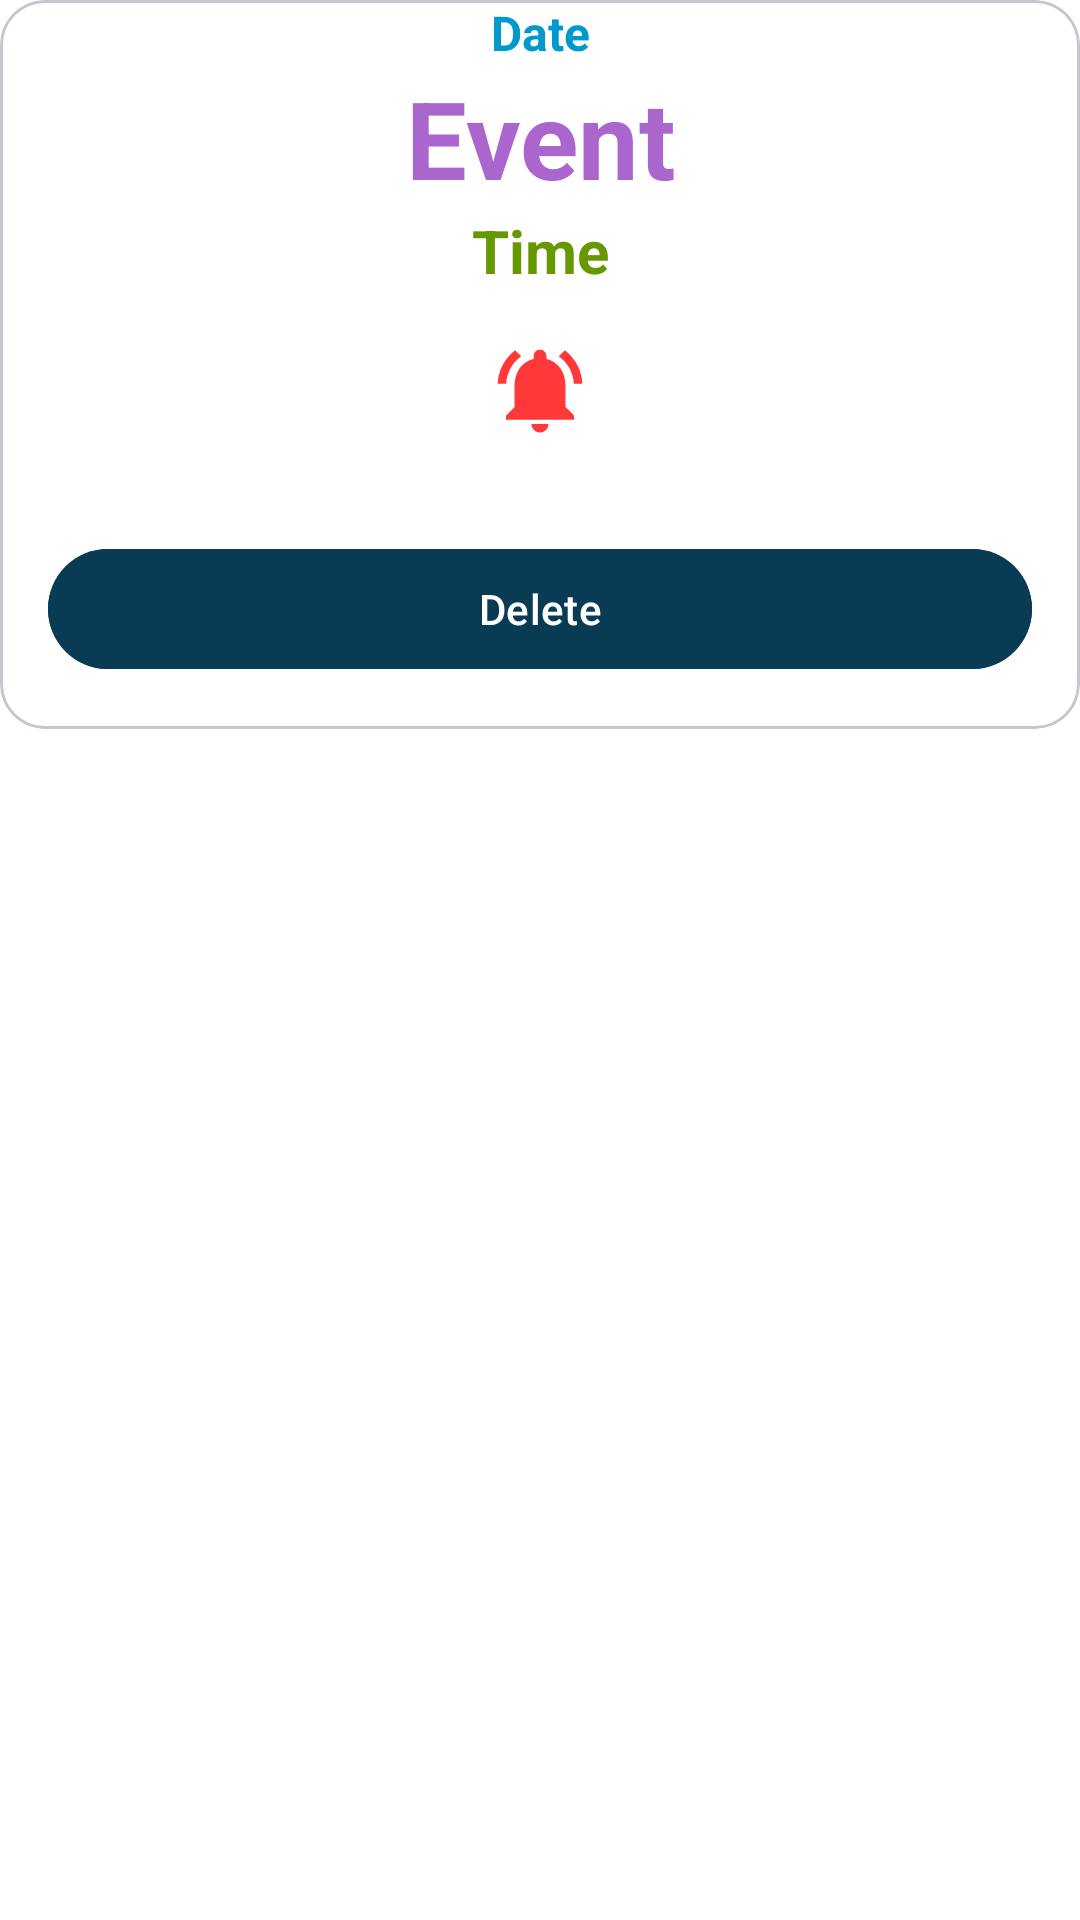

Screen size 1080px×1920px. Icon name, then its box in pixels as Rect(x1, y1, x2, y2):
notifications: Rect(497, 349, 583, 433)
